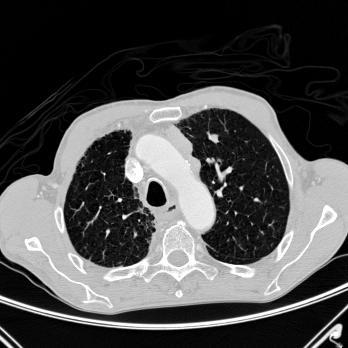nodule: (210, 134, 218, 142)
